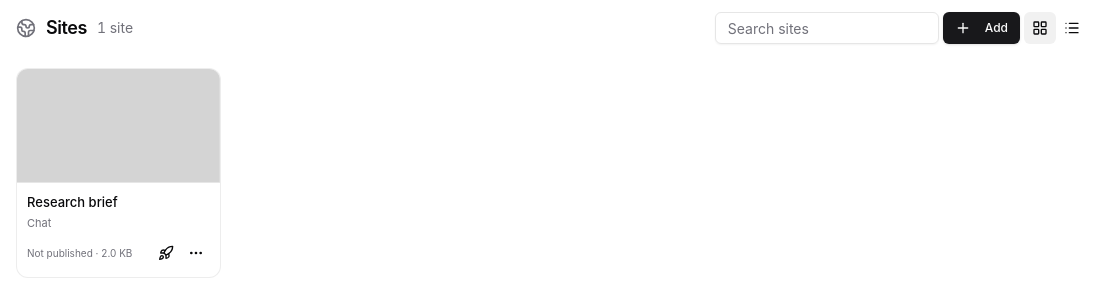
Test: SitesView layout › switches between gallery and list views
The width and height of the screenshot is (1105, 295).
Expected: the text "Research brief" is shown, [27,194,118,210]
Expected: the text "Status" is not shown
Click the button named "List view": point(1072, 28) [1056,12,1088,44]
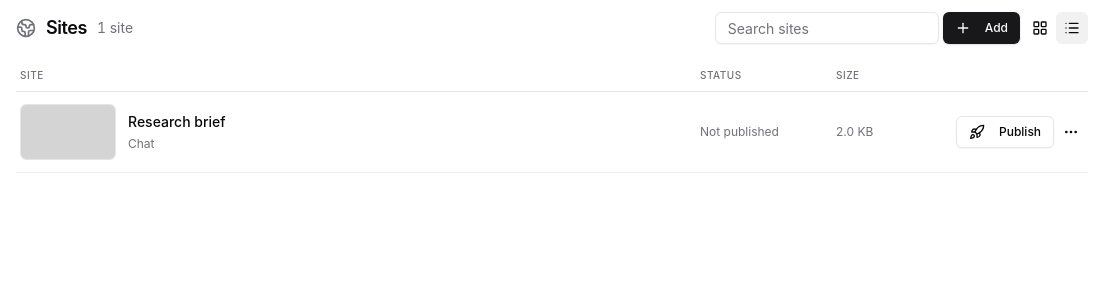
Expected: the text "Status" is shown, [700,69,742,81]
